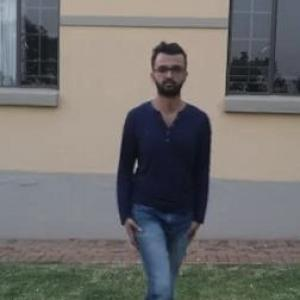follow: (121, 45, 216, 299)
